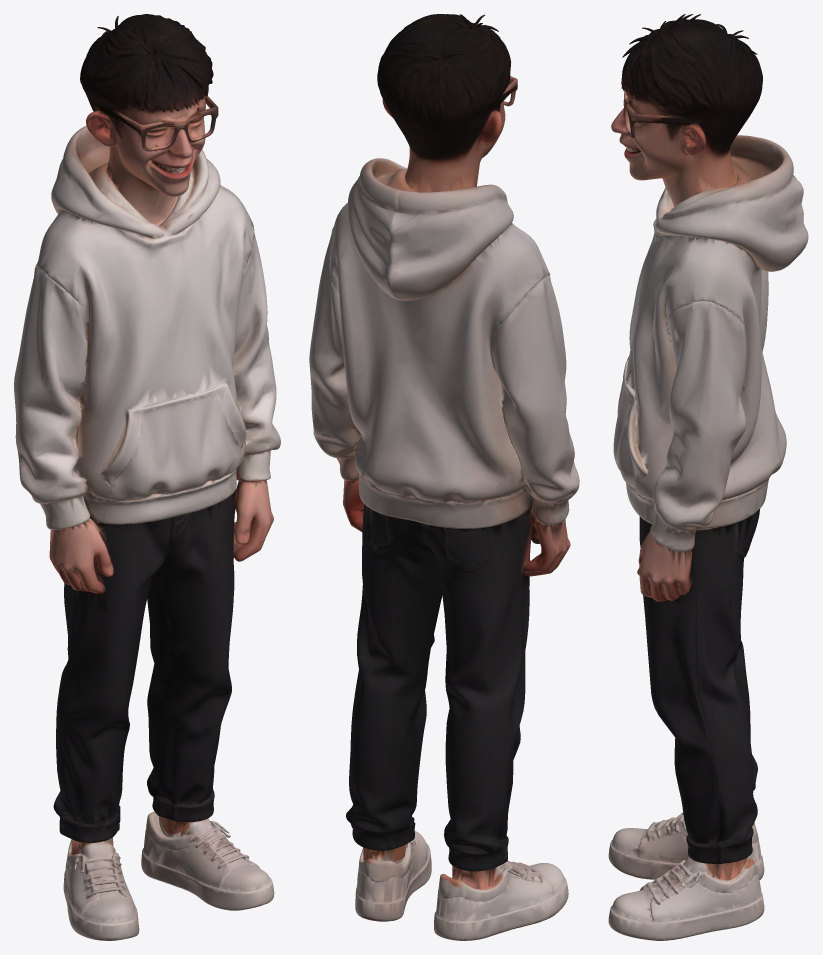
The model's file is mood-03.glb.
3 views of the same model, side by side, from view 1: azimuth 30°, elevation 25°; view 2: azimuth 150°, elevation 25°; view 3: azimuth 270°, elevation 25° (orthographic).
Parts seen in each view (by area): view 1: node_0; view 2: node_0; view 3: node_0.
Part boxes in pixels (x1,y1,x2,y2): node_0: (14, 14, 280, 940); node_0: (309, 14, 579, 940); node_0: (608, 14, 808, 940).
Bounding box in the file's own units: 0.3486 × 1.17 × 0.2418.
Materials: 1 (1 with a texture image).
